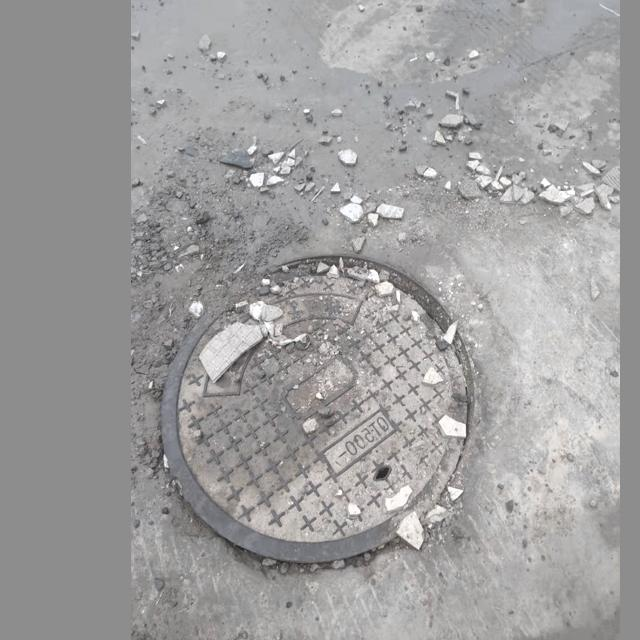uncovered: (162, 255, 475, 563)
